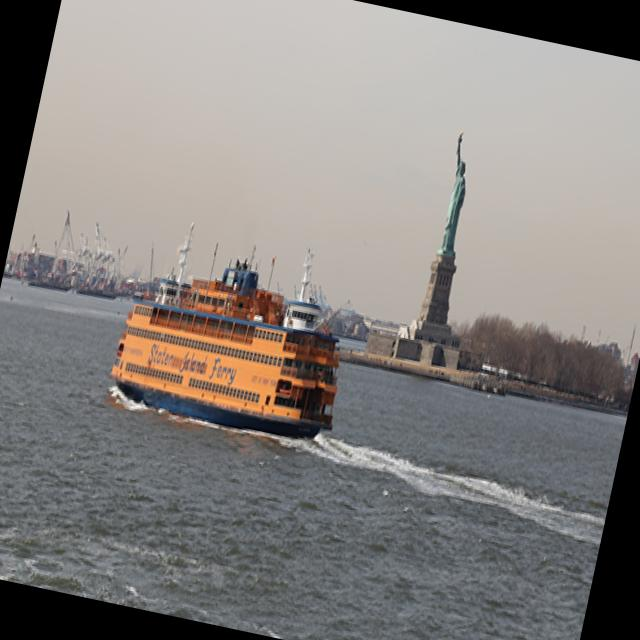boat: (90, 213, 375, 475)
